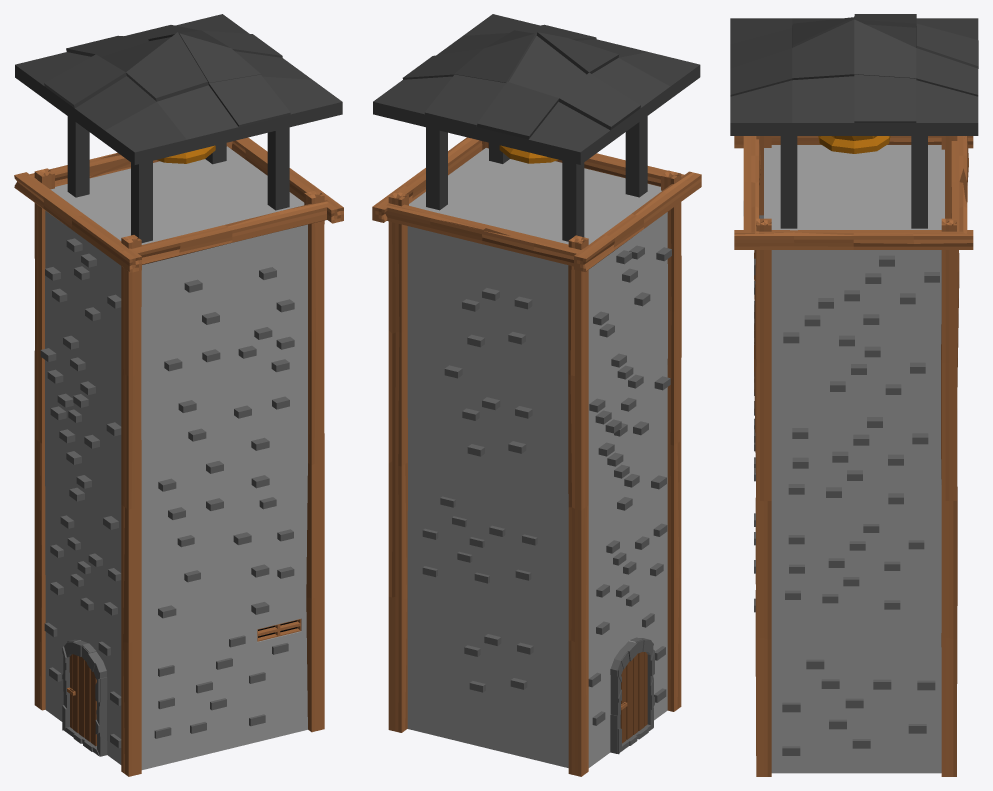
The model's file is bell tower.glb.
The picture shows the model from 3 angles, left to right: view 1: azimuth 30°, elevation 25°; view 2: azimuth 150°, elevation 25°; view 3: azimuth 270°, elevation 25°; orthographic projection. The views are drawn at different scales.
Parts seen in each view (by area): view 1: LowerFloor-col, Karkas-col, Roof -col, Bricks.001, CollumsRoof -col, Bricks, Door-col; view 2: LowerFloor-col, Karkas-col, Roof -col, Bricks.001, CollumsRoof -col, Door-col, Bricks; view 3: LowerFloor-col, Roof -col, Karkas-col, Bricks.001, CollumsRoof -col, Bricks, Bell -col.
Part boxes in pixels (x1,y1,x2,y2): LowerFloor-col: (45,146,307,769); Karkas-col: (14,137,343,776); Roof -col: (15,14,342,164); Bricks.001: (40,238,294,618); CollumsRoof -col: (67,116,289,242); Bricks: (44,622,288,748); Door-col: (69,654,96,746); LowerFloor-col: (407,148,667,767); Karkas-col: (372,137,701,776); Roof -col: (373,14,700,164); Bricks.001: (422,245,671,692); CollumsRoof -col: (426,116,647,241); Door-col: (620,652,647,743); Bricks: (588,613,666,725); LowerFloor-col: (764,145,944,773); Roof -col: (730,14,978,135); Karkas-col: (734,136,973,776); Bricks.001: (754,215,939,612); CollumsRoof -col: (780,136,927,228); Bricks: (782,659,935,755); Bell -col: (818,136,890,153).
Bounding box in the file's own units: 7.12 × 21.65 × 6.86.
